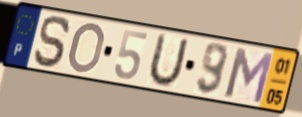5: (113, 27, 150, 81)
9: (195, 41, 228, 98)
M: (222, 45, 275, 107)
O: (66, 20, 107, 75)
S: (32, 14, 74, 70)
U: (144, 31, 191, 90)
